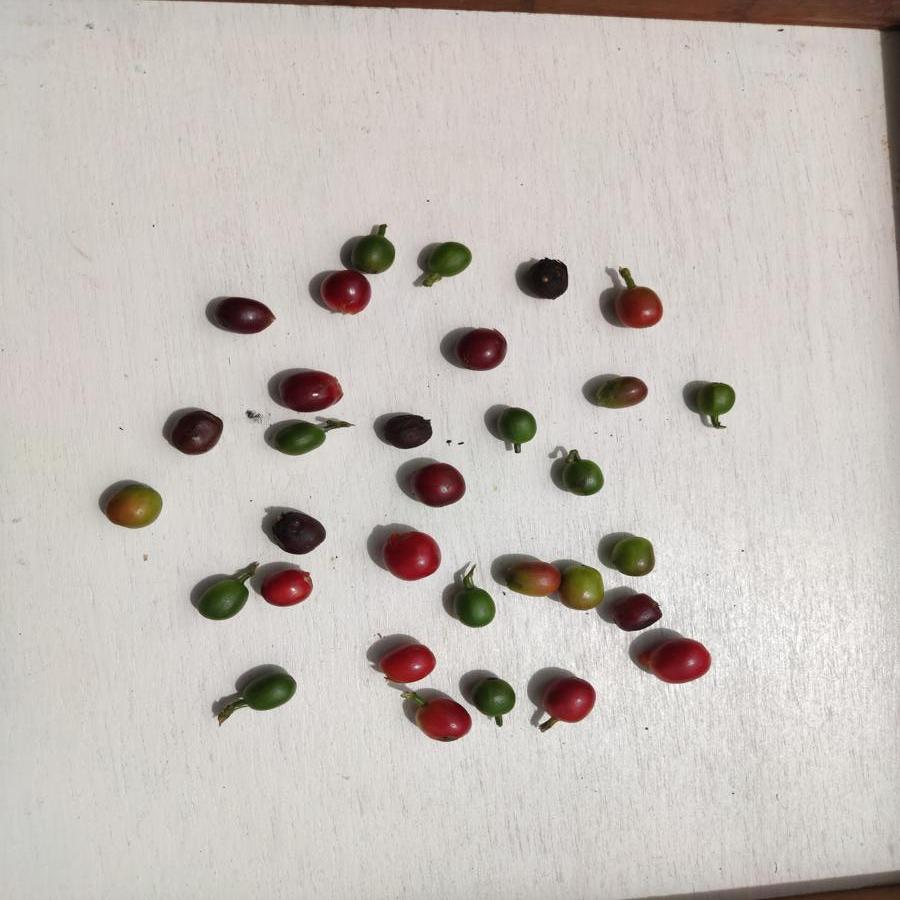Inmaduro: (193, 574, 251, 623), (241, 672, 298, 715), (272, 417, 330, 457), (451, 585, 495, 629), (350, 233, 395, 275), (424, 240, 473, 278), (559, 454, 603, 496), (492, 407, 540, 444), (471, 678, 516, 716), (698, 380, 739, 420)
Maduro: (381, 528, 441, 585), (650, 637, 710, 684), (613, 282, 666, 331), (260, 564, 315, 610), (415, 697, 471, 741), (379, 641, 435, 684), (541, 680, 597, 723)
Pinton: (102, 482, 167, 527), (557, 562, 607, 613), (589, 374, 650, 411), (606, 536, 656, 577), (504, 563, 561, 598)
Sobremaduro: (446, 323, 511, 374), (275, 370, 344, 415), (410, 463, 469, 508), (270, 509, 329, 554), (168, 408, 222, 455), (211, 296, 278, 333), (320, 271, 373, 315), (527, 254, 571, 300), (381, 415, 434, 448)
